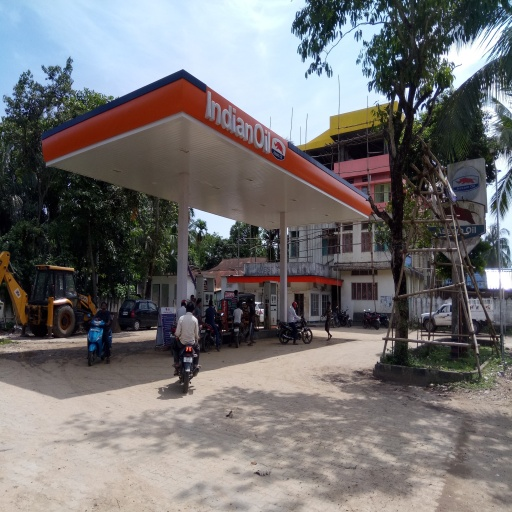roof: (39, 70, 376, 234)
